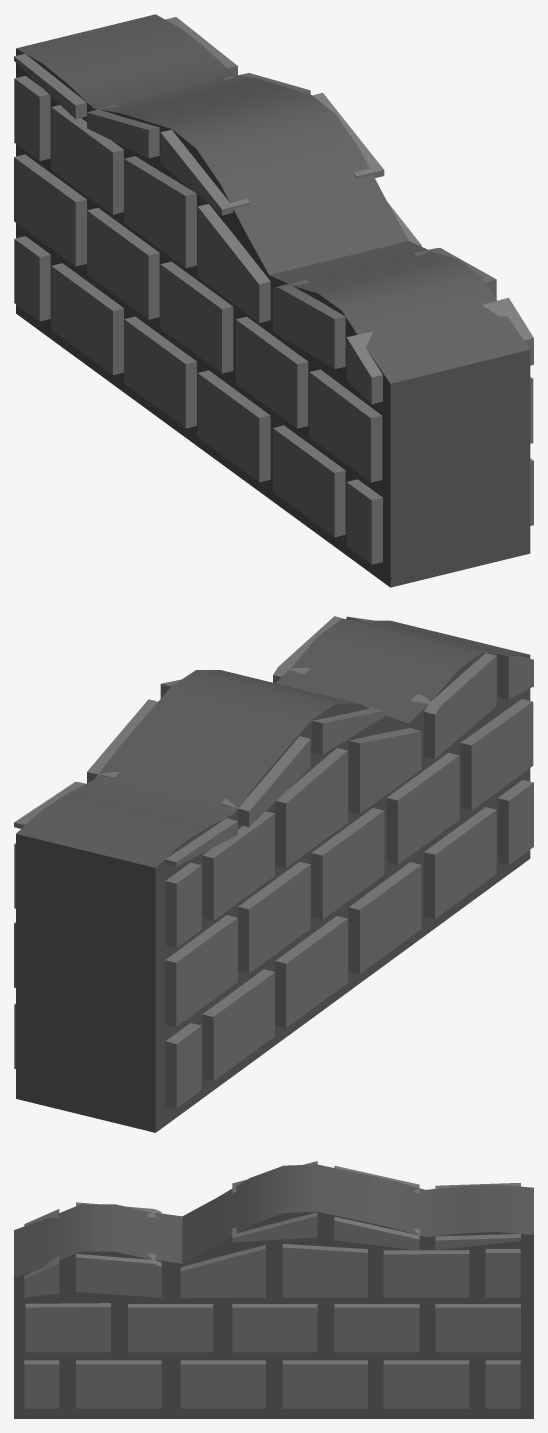
The model's file is broken_wall_02.fbx.
3 views of the same model, one above another, from view 1: azimuth 30°, elevation 25°; view 2: azimuth 150°, elevation 25°; view 3: azimuth 270°, elevation 25° (orthographic). The views are drawn at different scales.
Parts seen in each view (by area): view 1: broken_wall_02; view 2: broken_wall_02; view 3: broken_wall_02.
Boxes of the visible parts, x1,y1,x2,y2 form: broken_wall_02: (14, 14, 533, 587); broken_wall_02: (14, 616, 533, 1132); broken_wall_02: (14, 1161, 533, 1418).
Size of the model in its own units: 25 by 43.97 by 100.
